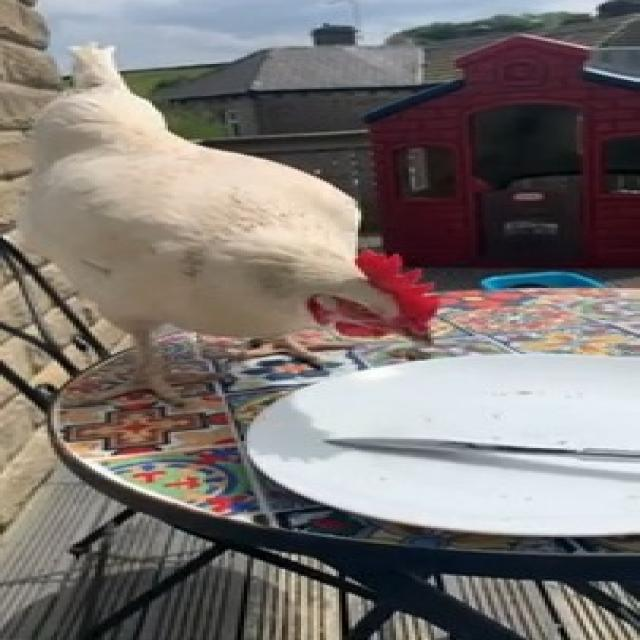pecking: (9, 39, 443, 384)
